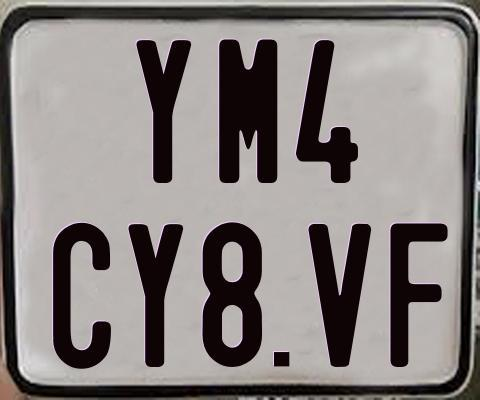4: (293, 40, 356, 184)
8: (201, 219, 264, 370)
C: (53, 223, 112, 369)
F: (390, 222, 453, 367)
M: (219, 37, 277, 185)
V: (305, 223, 373, 368)
Y: (128, 224, 186, 371), (134, 40, 189, 189)
